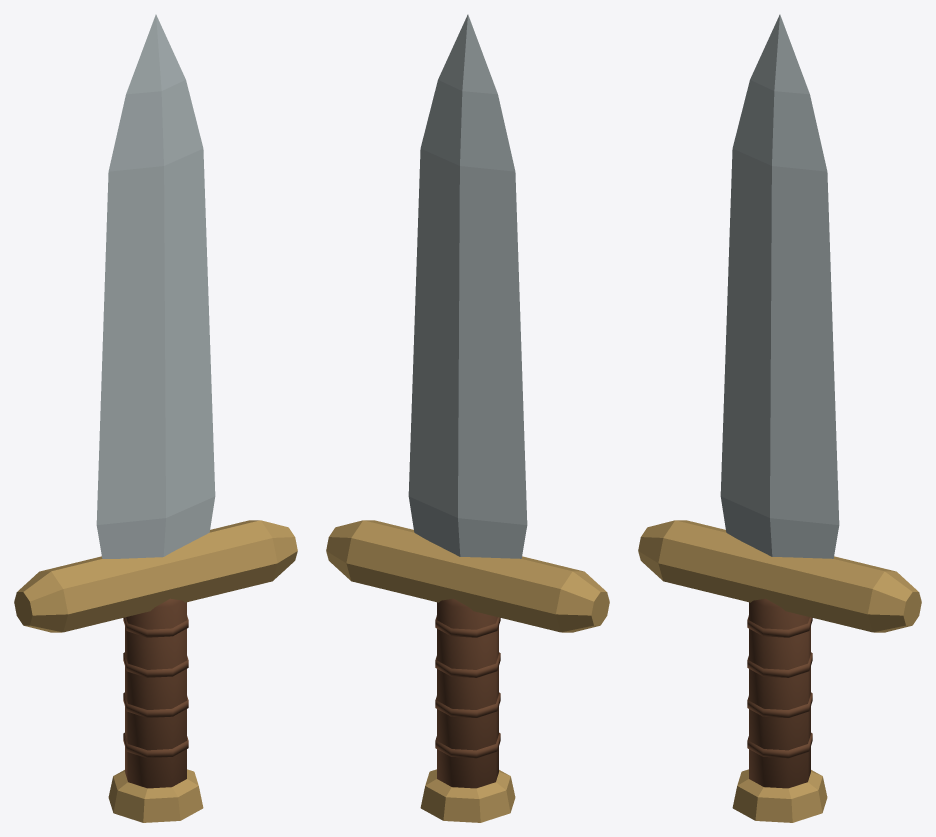
Rendered from sword.glb.
The picture shows the model from 3 angles, left to right: view 1: azimuth 30°, elevation 25°; view 2: azimuth 150°, elevation 25°; view 3: azimuth 330°, elevation 25°; orthographic projection.
Parts seen in each view (by area): view 1: Sword; view 2: Sword; view 3: Sword.
Part boxes in pixels (x1,y1,x2,y2): Sword: [14, 14, 297, 822]; Sword: [326, 14, 609, 822]; Sword: [638, 14, 921, 822].
Bounding box in the file's own units: 0.38 × 1.09 × 0.122.
